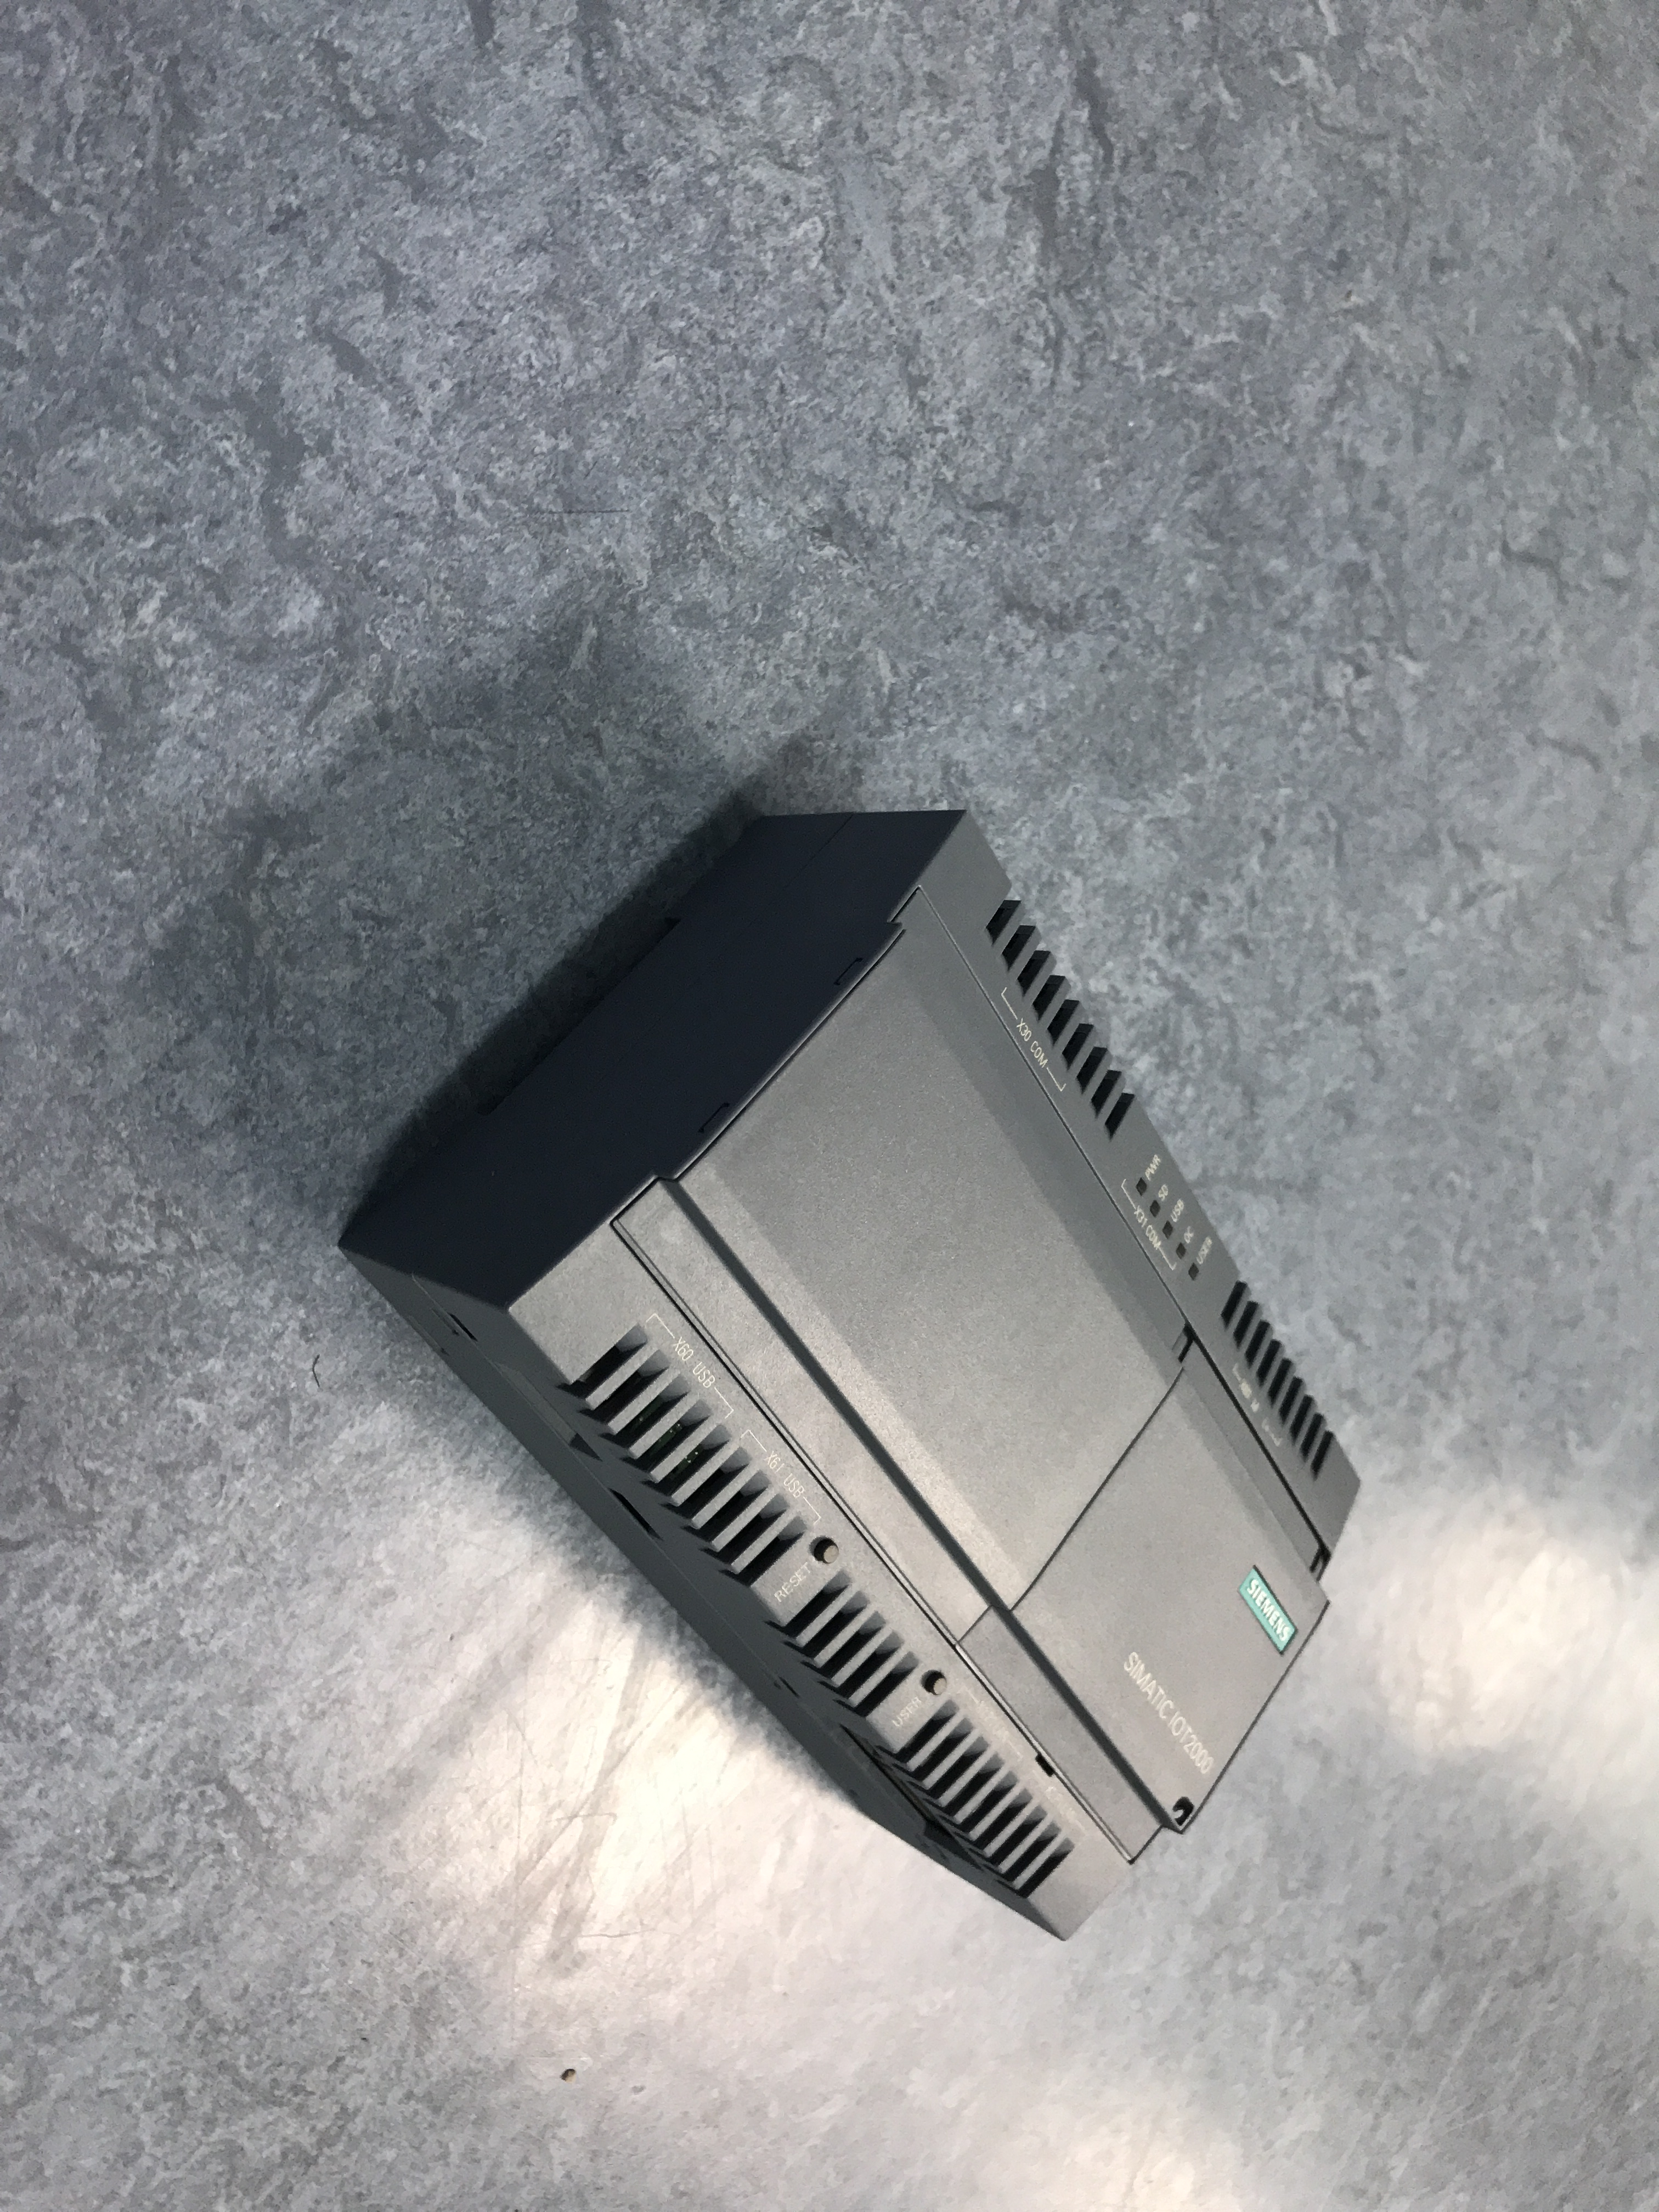device: (336, 810, 1363, 1944)
